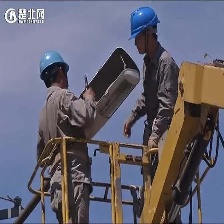helmet: (126, 4, 161, 45), (38, 50, 71, 82)
no-vest: (38, 85, 86, 180), (139, 46, 179, 132)
person: (38, 48, 89, 223), (128, 6, 180, 164)
